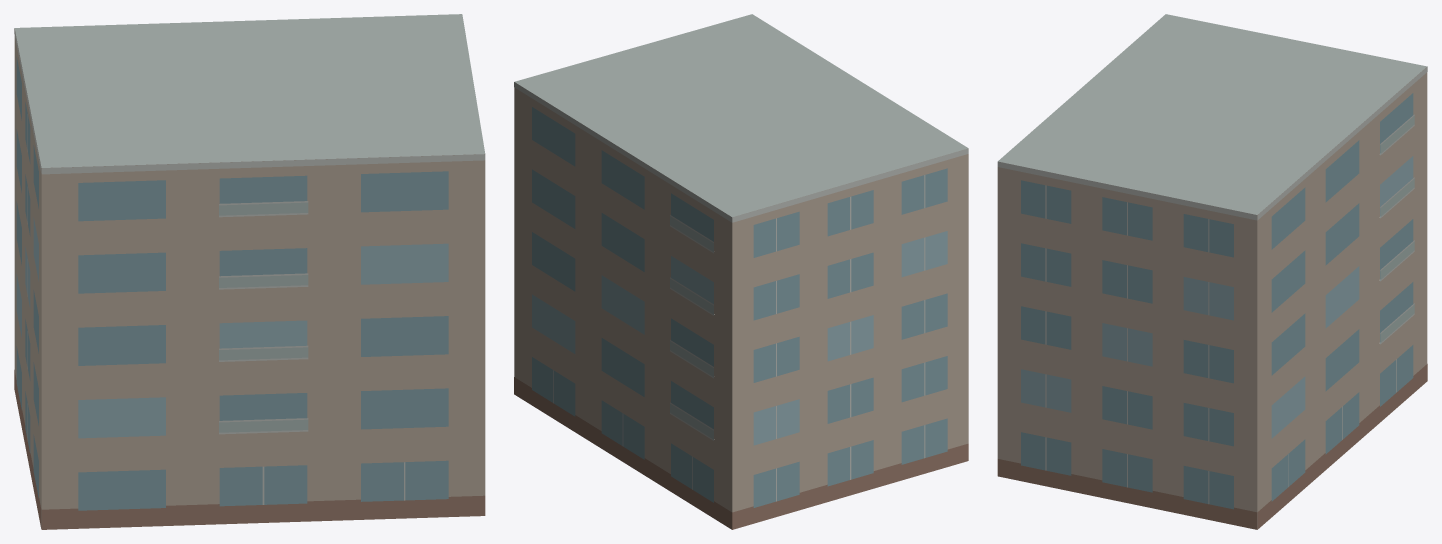
Rendered from survey-upis-32967329.glb.
3 renders of one model, left to right at view 1: azimuth 30°, elevation 25°; view 2: azimuth 150°, elevation 25°; view 3: azimuth 270°, elevation 25°, orthographic. The views are drawn at different scales.
Visible parts, largest first — view 1: survey-upis-32967329.tmp; view 2: survey-upis-32967329.tmp; view 3: survey-upis-32967329.tmp.
Boxes of the visible parts, x1,y1,x2,y2 form: survey-upis-32967329.tmp: (14, 14, 485, 529); survey-upis-32967329.tmp: (514, 14, 968, 529); survey-upis-32967329.tmp: (997, 14, 1427, 529).
Bounding box in the file's own units: 19.07 × 13.92 × 17.23.
